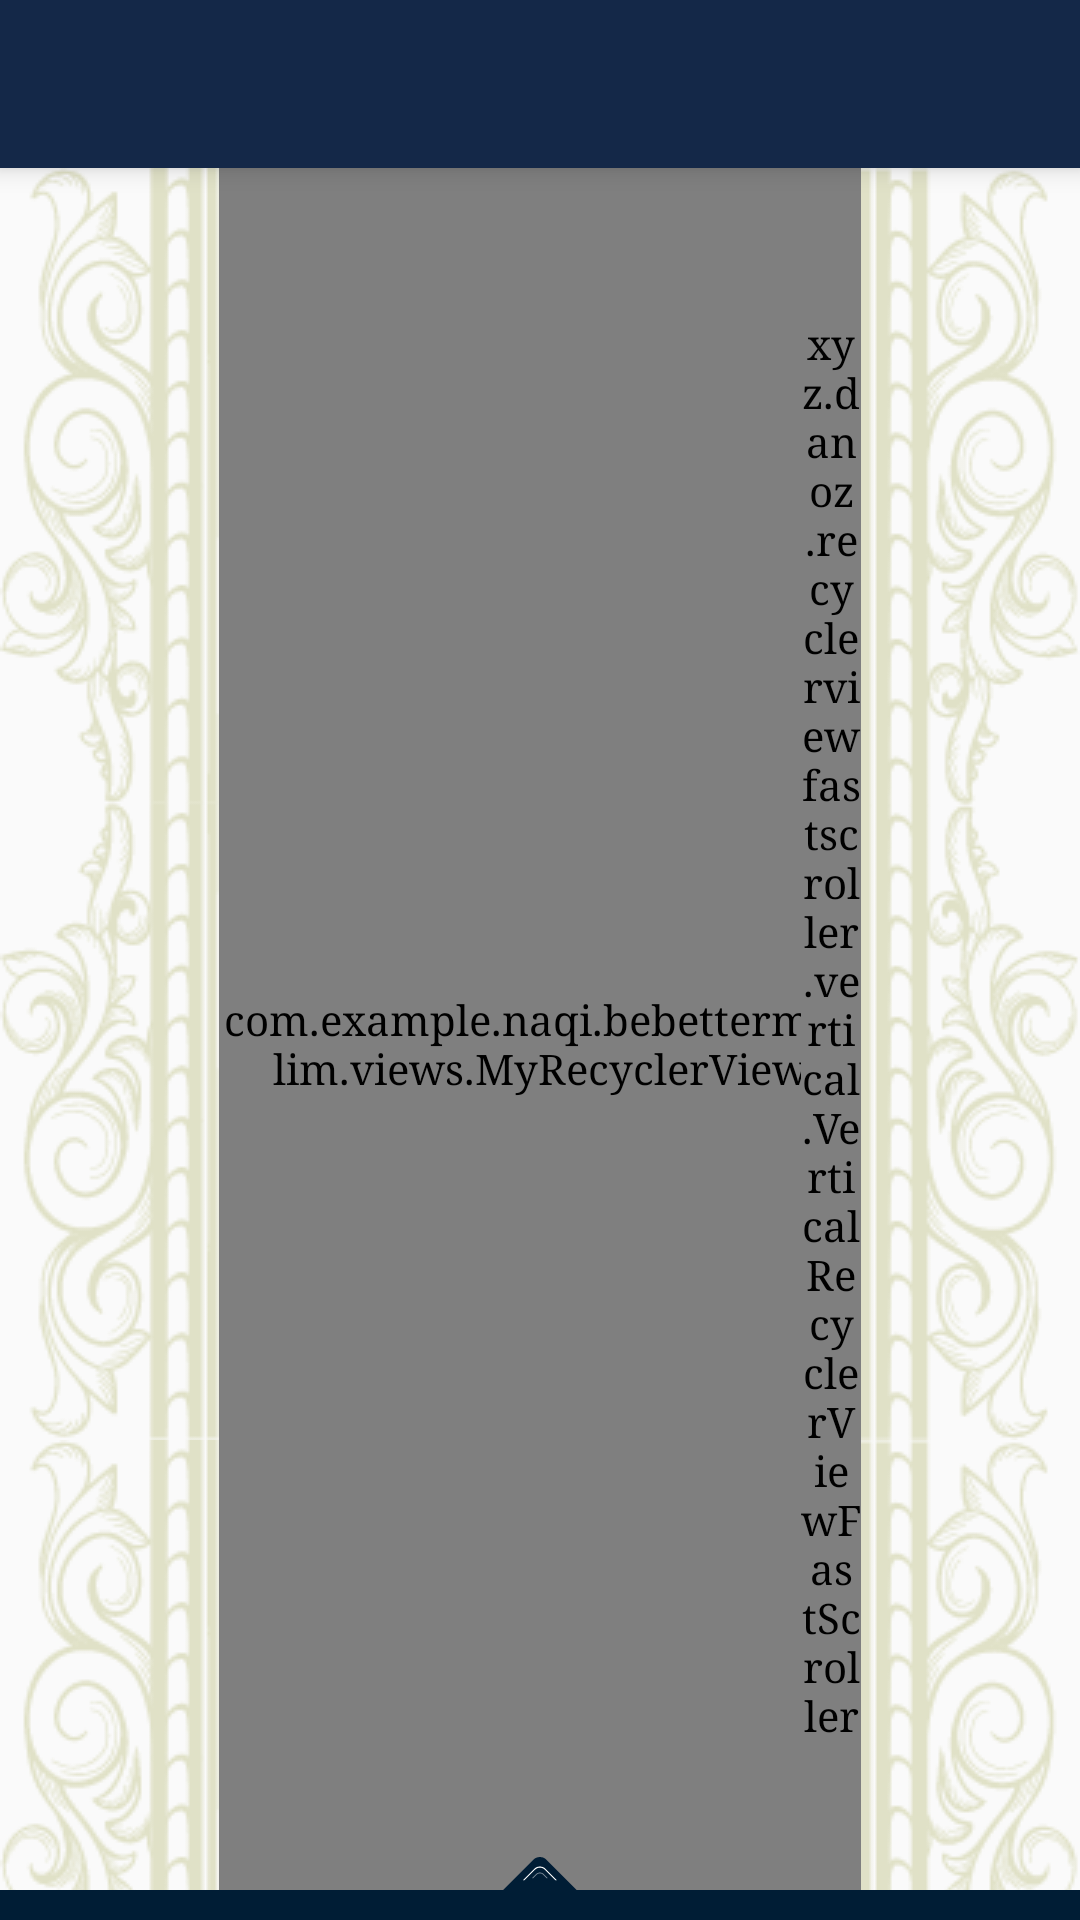

Locate icon controls on the screen. Image size 1080px×1920px, boxes as (x1, y1, x2, y2).
swipeup: (488, 1857, 591, 1920)
